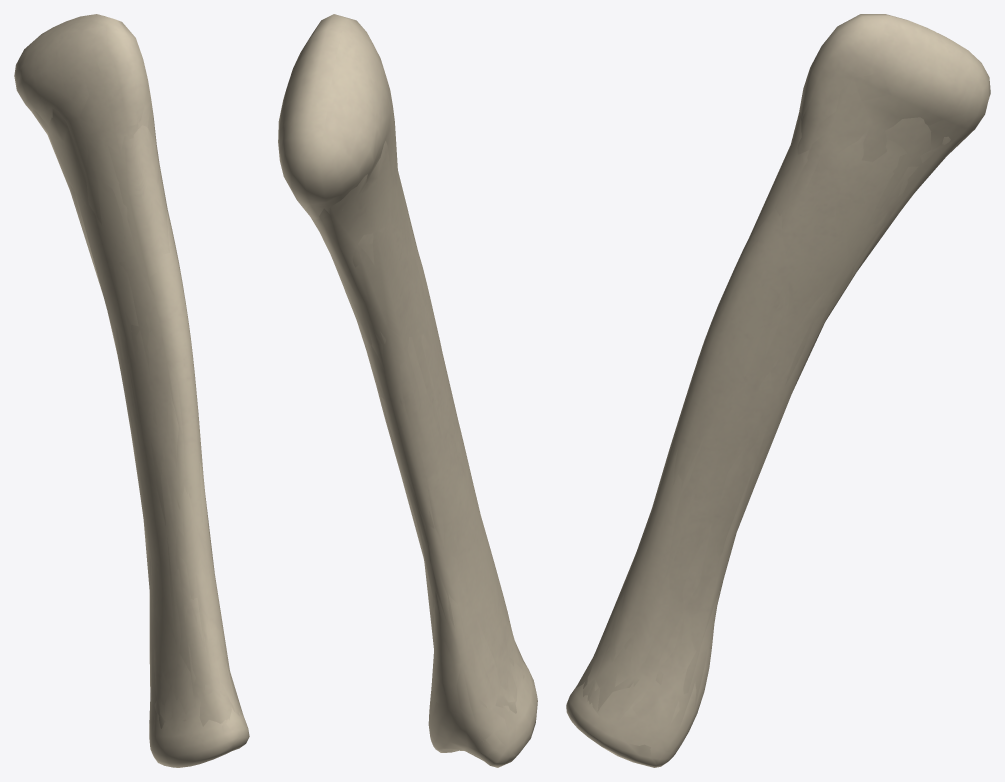
Rendered from R metacarpi secundum.fbx.
The picture shows the model from 3 angles, left to right: view 1: azimuth 30°, elevation 25°; view 2: azimuth 150°, elevation 25°; view 3: azimuth 270°, elevation 25°; orthographic projection. The views are drawn at different scales.
Parts seen in each view (by area): view 1: R metacarpi secundum, R metacarpi secundum low, R metacarpi secundum high; view 2: R metacarpi secundum, R metacarpi secundum low, R metacarpi secundum high; view 3: R metacarpi secundum, R metacarpi secundum high, R metacarpi secundum low.
Part boxes in pixels (box(x1,y1,x2,y2)): R metacarpi secundum: box(14, 14, 249, 767); R metacarpi secundum low: box(31, 108, 243, 728); R metacarpi secundum high: box(15, 15, 247, 767); R metacarpi secundum: box(278, 14, 537, 767); R metacarpi secundum low: box(314, 141, 525, 760); R metacarpi secundum high: box(278, 17, 536, 764); R metacarpi secundum: box(566, 14, 990, 767); R metacarpi secundum high: box(567, 14, 989, 765); R metacarpi secundum low: box(576, 106, 950, 711).
Size of the model in its own units: 1.37 by 10.6 by 5.45.
1 material, 1 textured.
